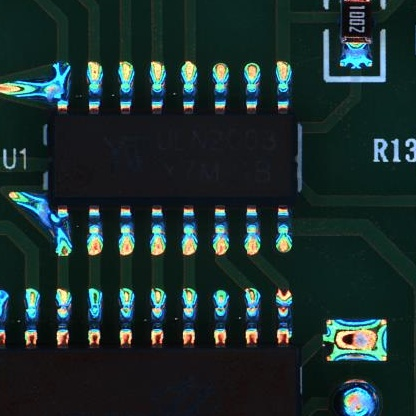spot: (324, 317, 388, 365), (334, 380, 382, 416)
